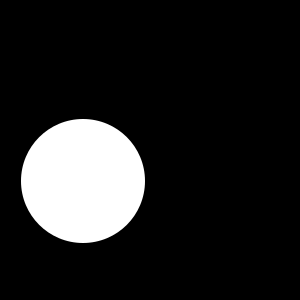rectangle: (21, 119, 145, 243)
